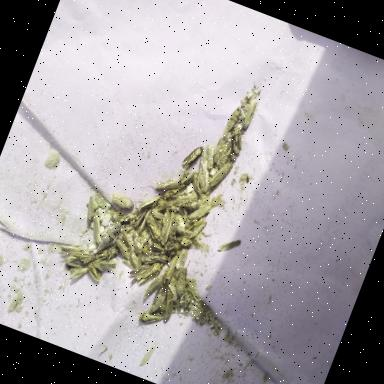pbw: (131, 303, 166, 335), (129, 187, 163, 219), (136, 211, 168, 244), (146, 170, 182, 199), (82, 210, 109, 248), (155, 285, 180, 322), (136, 257, 164, 290), (154, 208, 178, 246), (208, 156, 234, 191), (92, 239, 122, 269), (221, 104, 243, 142), (142, 246, 172, 272), (125, 260, 152, 288), (161, 178, 188, 206), (170, 264, 192, 298), (225, 124, 249, 155), (112, 228, 140, 254), (240, 96, 260, 132), (181, 142, 205, 172), (124, 202, 148, 232), (67, 246, 97, 269), (91, 252, 119, 276), (142, 274, 164, 304), (173, 188, 199, 212), (57, 240, 85, 262), (162, 275, 184, 303), (66, 260, 90, 285), (186, 176, 211, 200), (82, 260, 106, 285), (112, 206, 138, 229), (109, 190, 136, 212), (192, 167, 214, 194), (218, 234, 242, 258), (136, 204, 154, 235), (187, 200, 210, 224), (81, 195, 100, 224), (162, 254, 180, 284), (217, 140, 235, 170), (149, 288, 168, 316), (202, 144, 220, 171), (126, 230, 146, 254), (134, 240, 150, 270), (121, 248, 142, 270), (210, 137, 226, 165), (171, 234, 193, 254), (170, 212, 190, 234), (174, 246, 190, 272), (224, 140, 242, 162), (156, 198, 180, 214), (63, 254, 86, 270), (165, 222, 179, 244), (196, 149, 210, 170), (149, 207, 165, 220), (151, 242, 166, 252)
